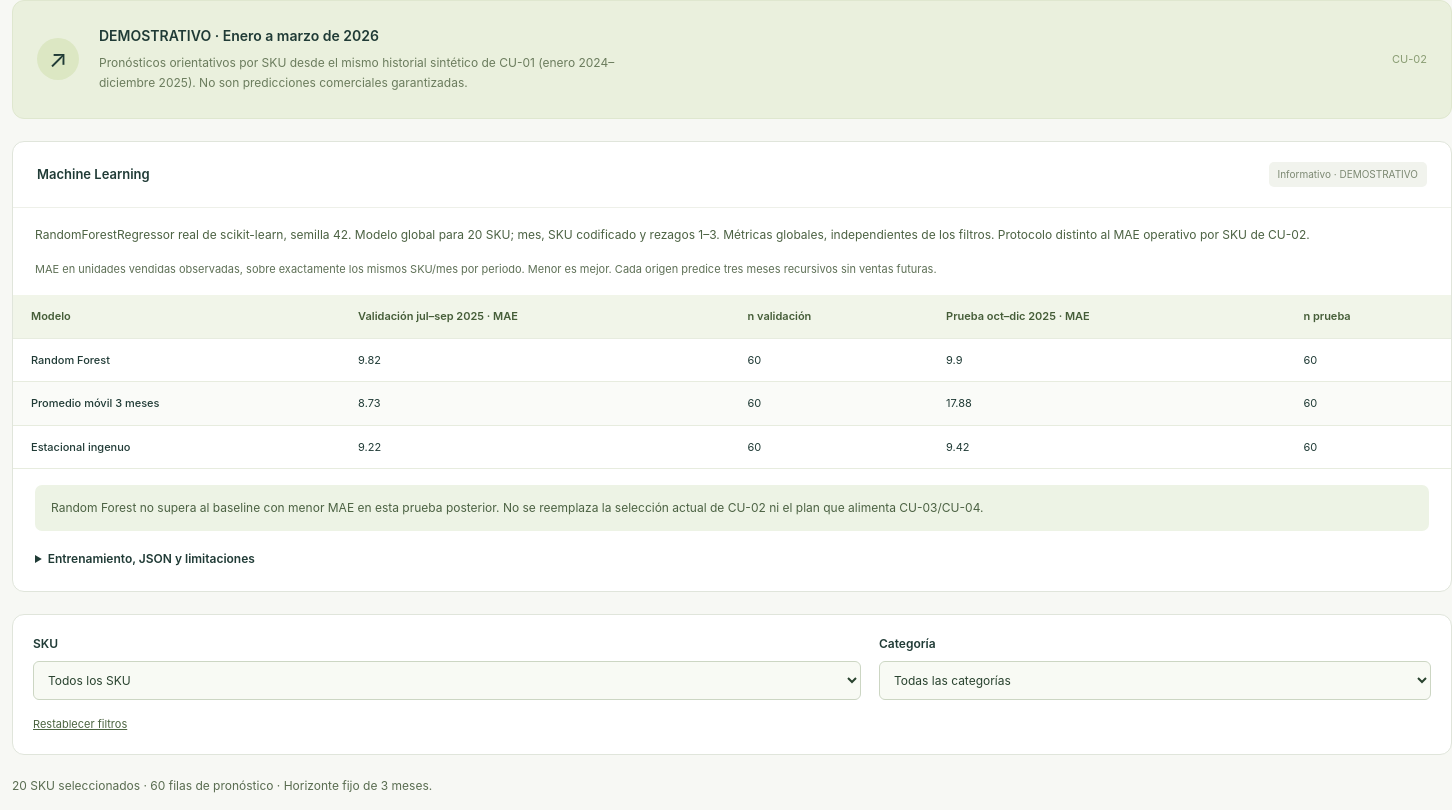
Test case: Pantalla CU-02 › filtra categoría y SKU; gráfico y tabla permanecen consistentes
Select "Despensa" in the dropdown labelled "Categoría". click: [1155, 680]
box: x1=879 y1=661 x2=1431 y2=700
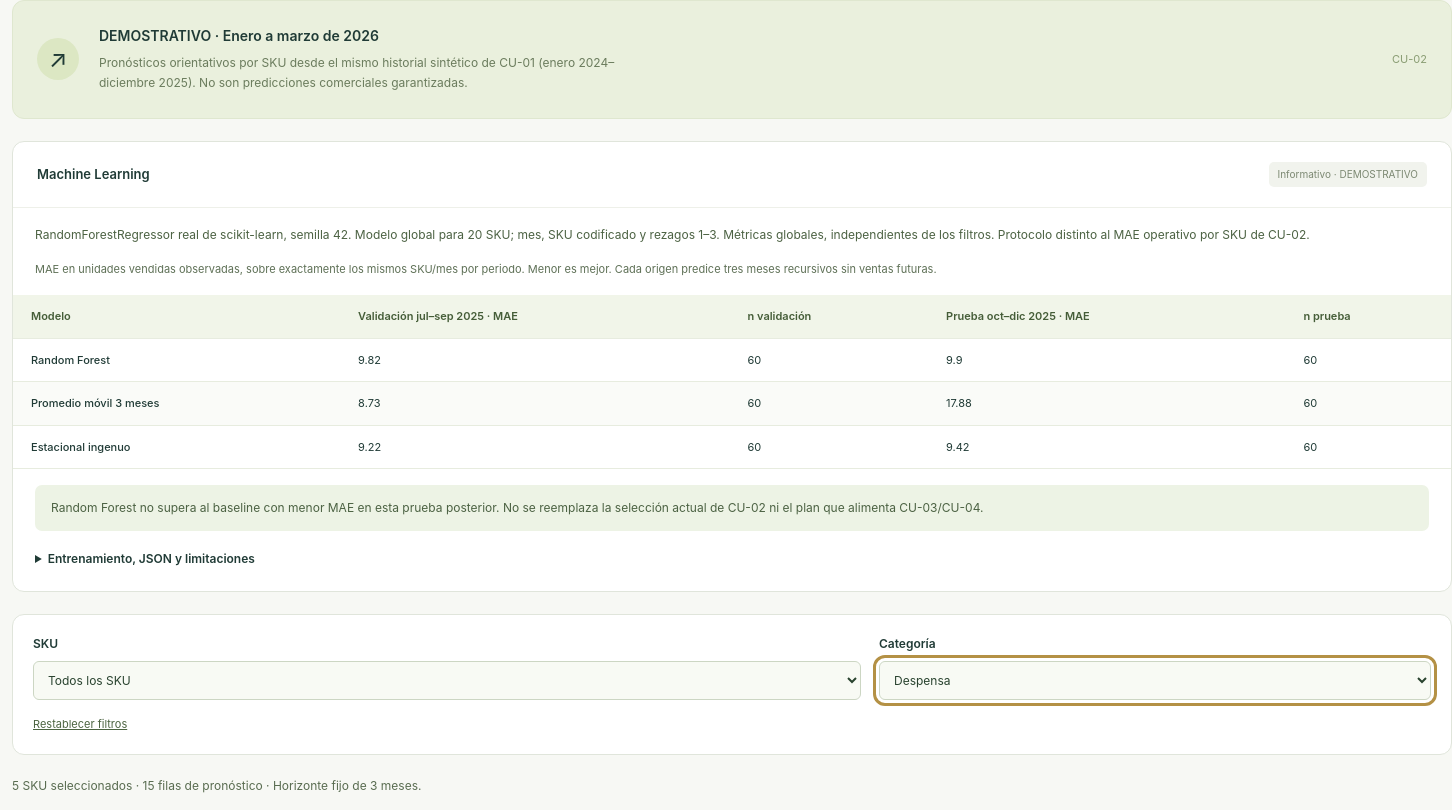
Check: the message shows "5 SKU seleccionados · 15 filas", box x1=12 y1=778 x2=421 y2=793
Select "SKU-001 · Café de altura 500 g" in the dropdown labelled "SKU". click: [447, 680]
box: x1=33 y1=661 x2=861 y2=700
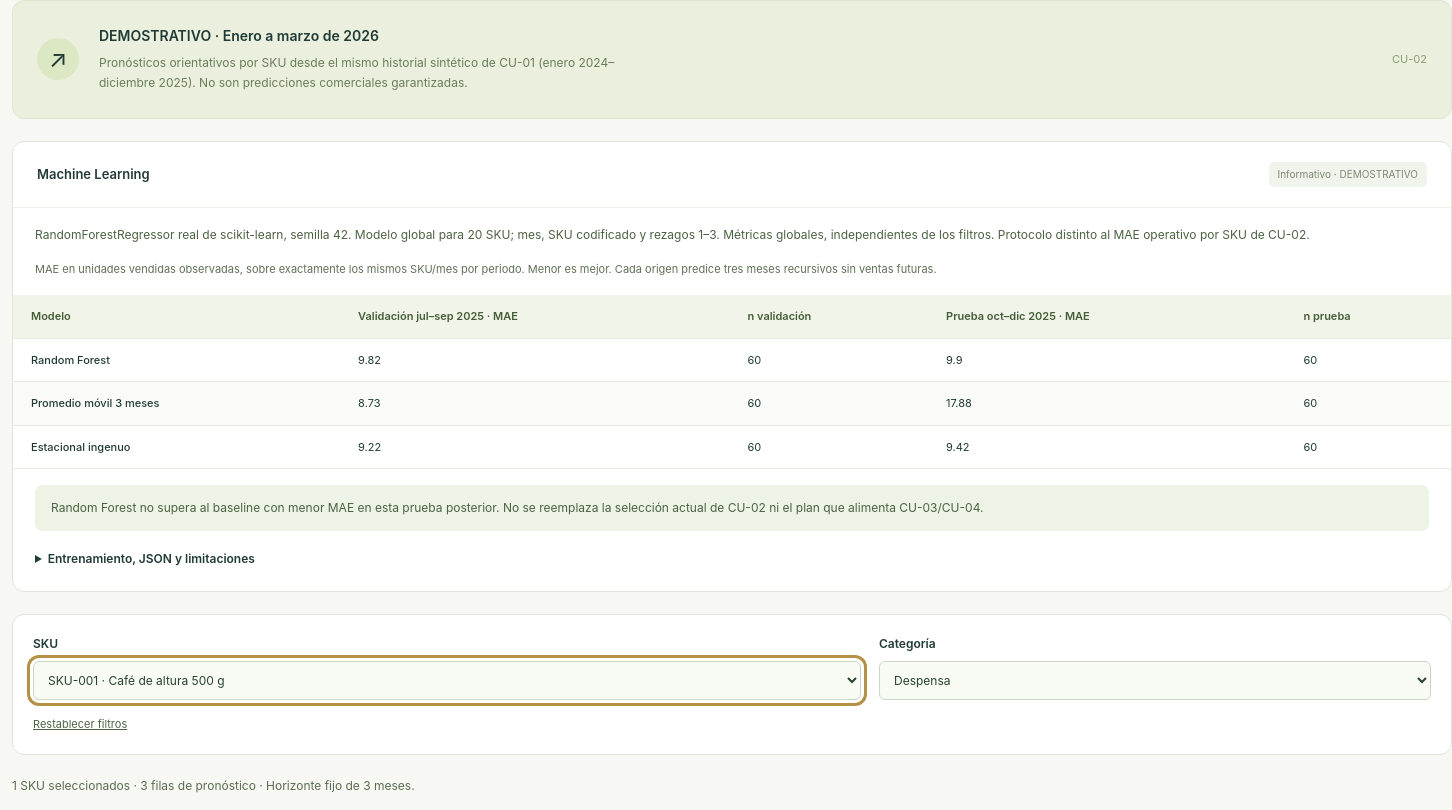
Check: the message shows "1 SKU seleccionados · 3 filas", box x1=12 y1=778 x2=415 y2=793
Select "Hogar" in the dropdown labelled "Categoría". click: [1155, 680]
box: x1=879 y1=661 x2=1431 y2=700
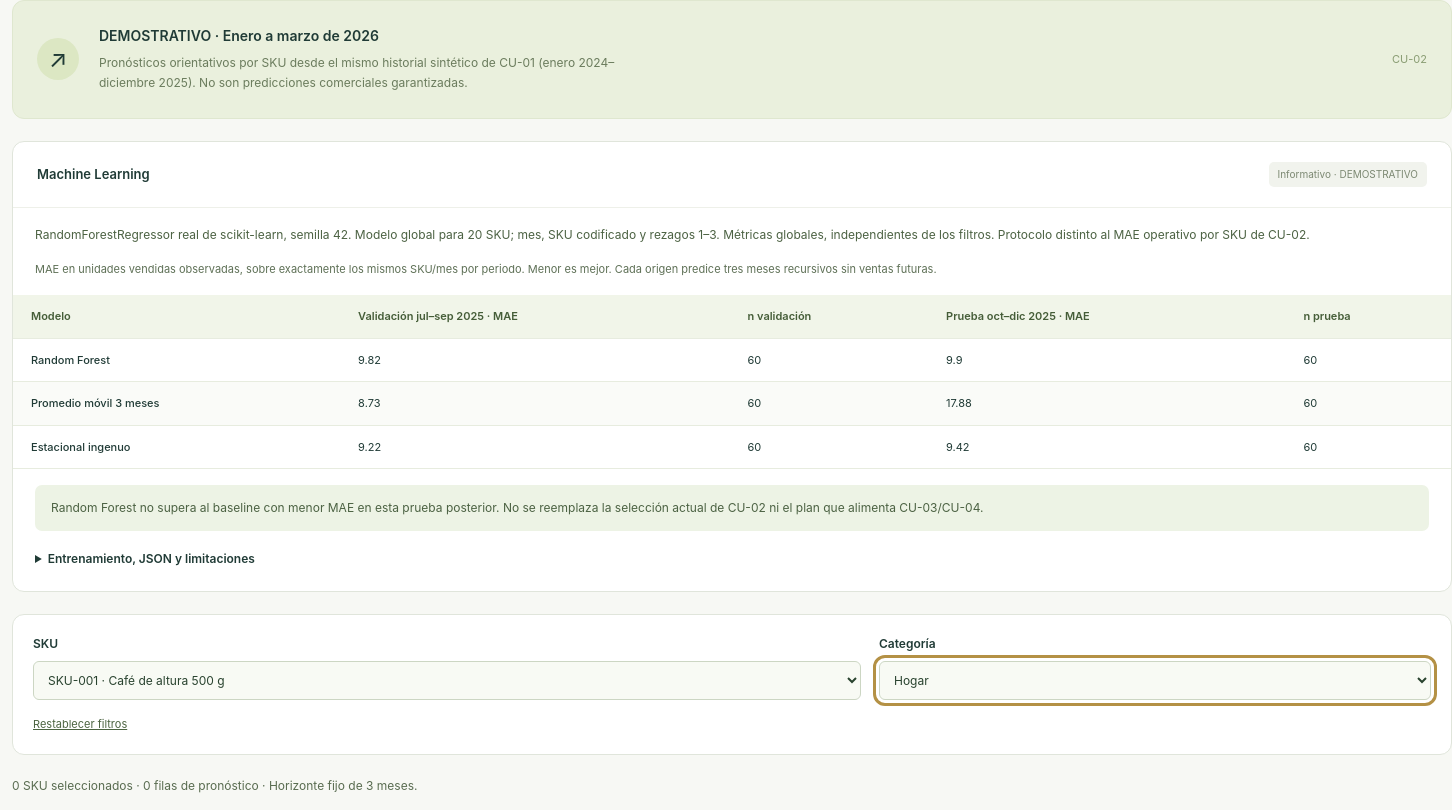
Click the button "Restablecer filtros". click: [80, 724]
box: x1=33 y1=716 x2=127 y2=732
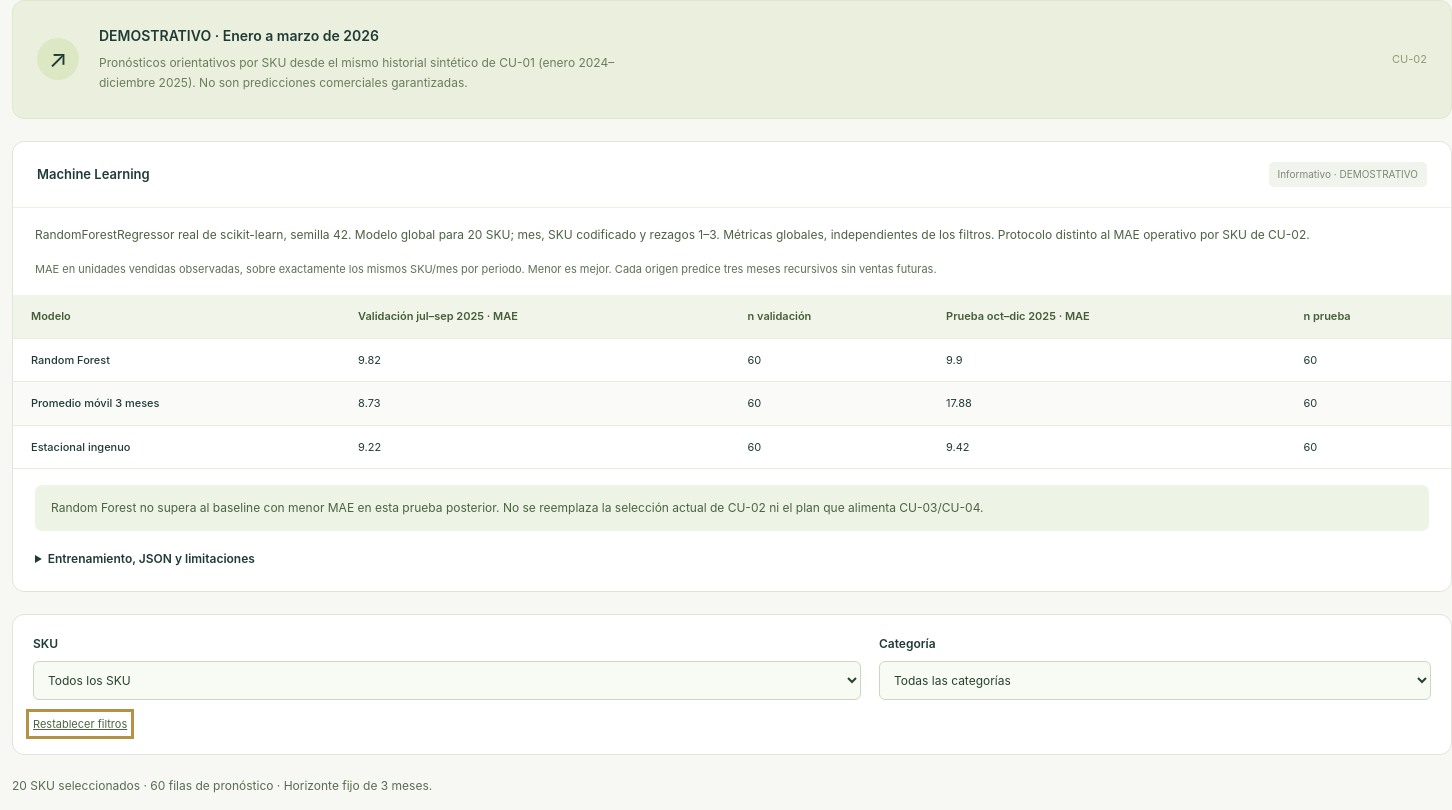
Check: the message shows "20 SKU seleccionados · 60 filas", box x1=12 y1=778 x2=432 y2=793
